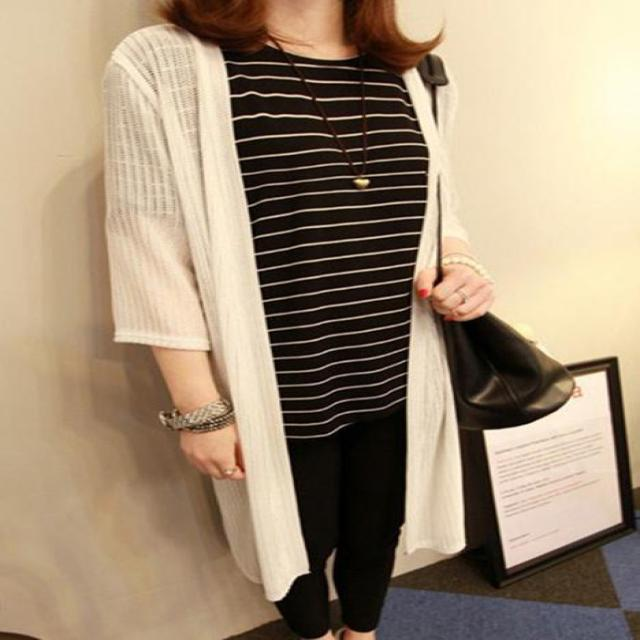long sleeve outwear: (107, 15, 310, 574)
trousers: (223, 358, 447, 638)
